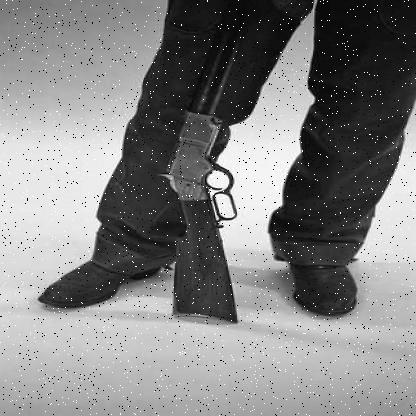rifle: (139, 0, 273, 331)
